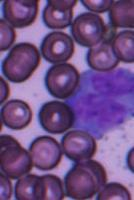M: (62, 67, 134, 139)
